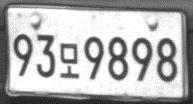3: (35, 34, 56, 78)
8: (107, 35, 129, 80), (156, 37, 178, 82)
9: (82, 36, 104, 80), (132, 36, 152, 82), (13, 33, 34, 76)
모: (59, 42, 80, 78)
